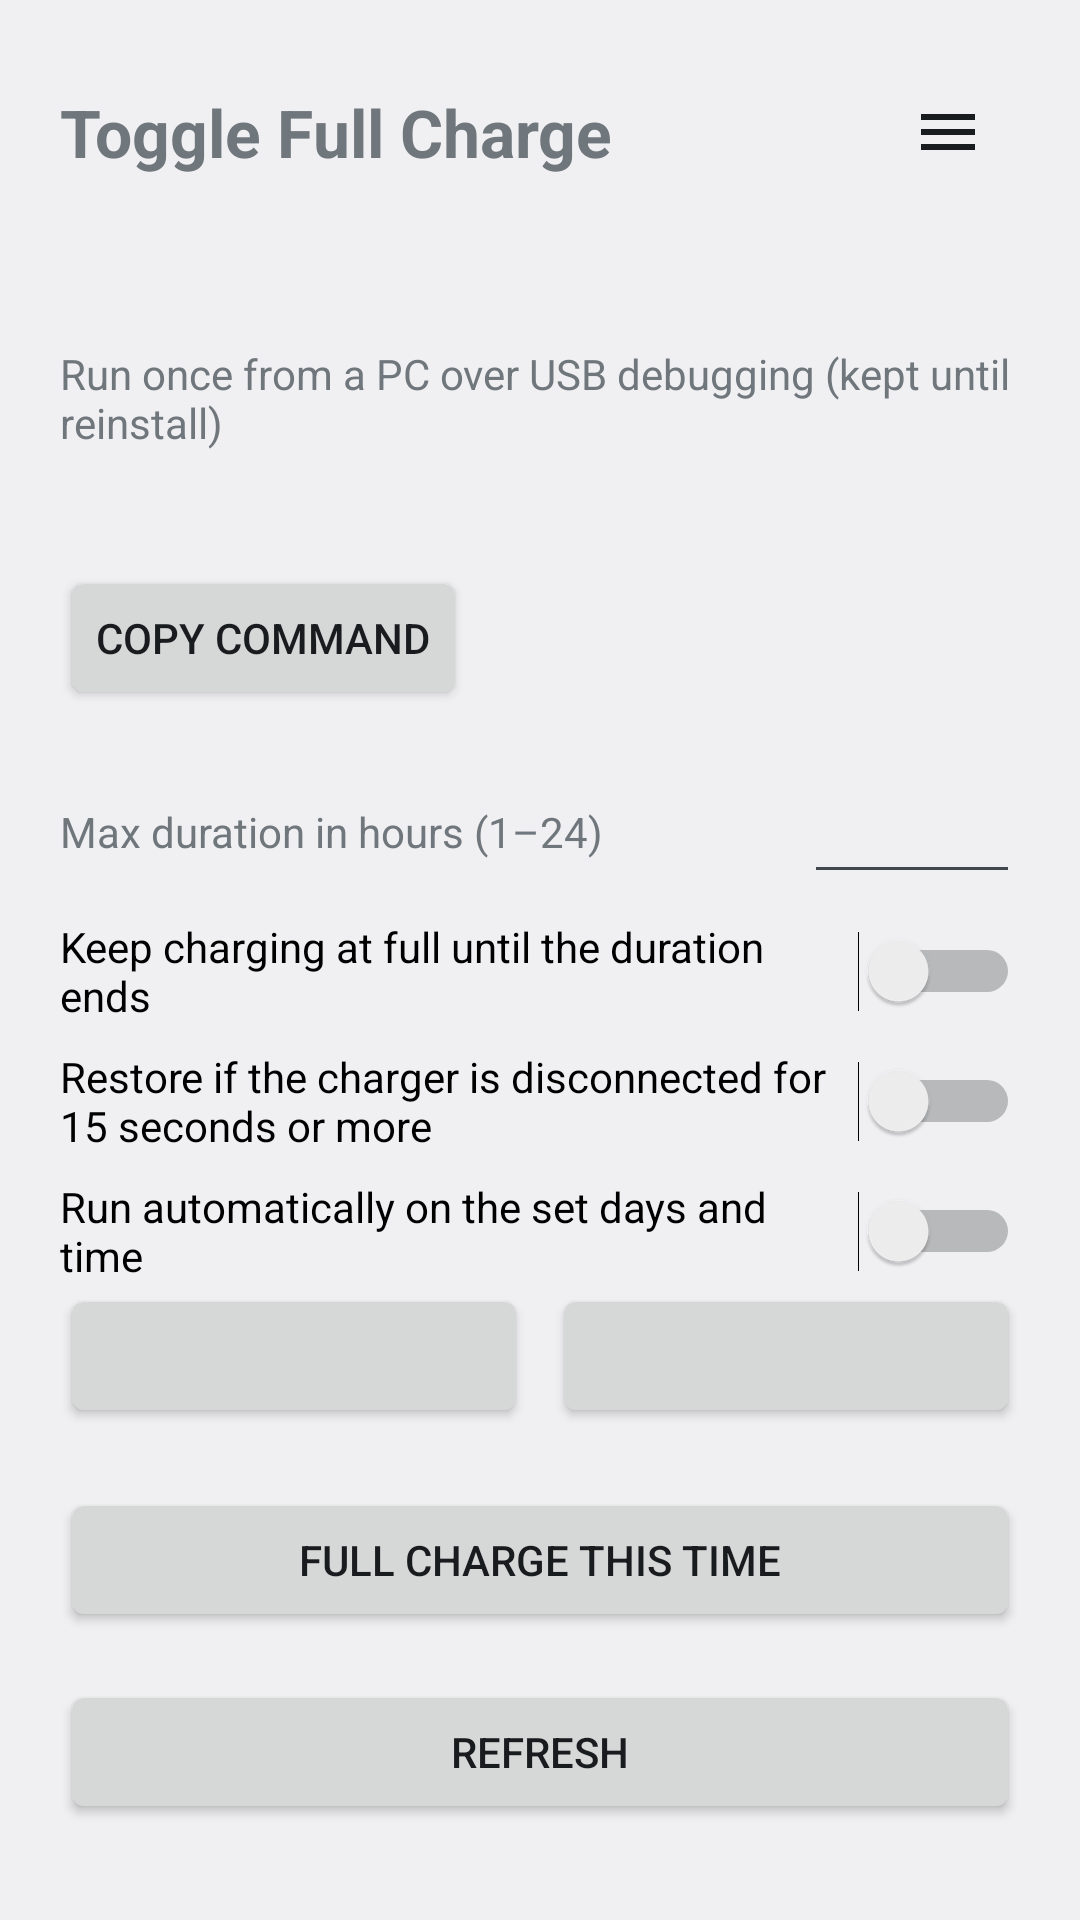

Where icons sit on this 1080*1920 app screen, as BBox(x1, y1, x2, y2):
Menu: BBox(921, 114, 975, 150)
